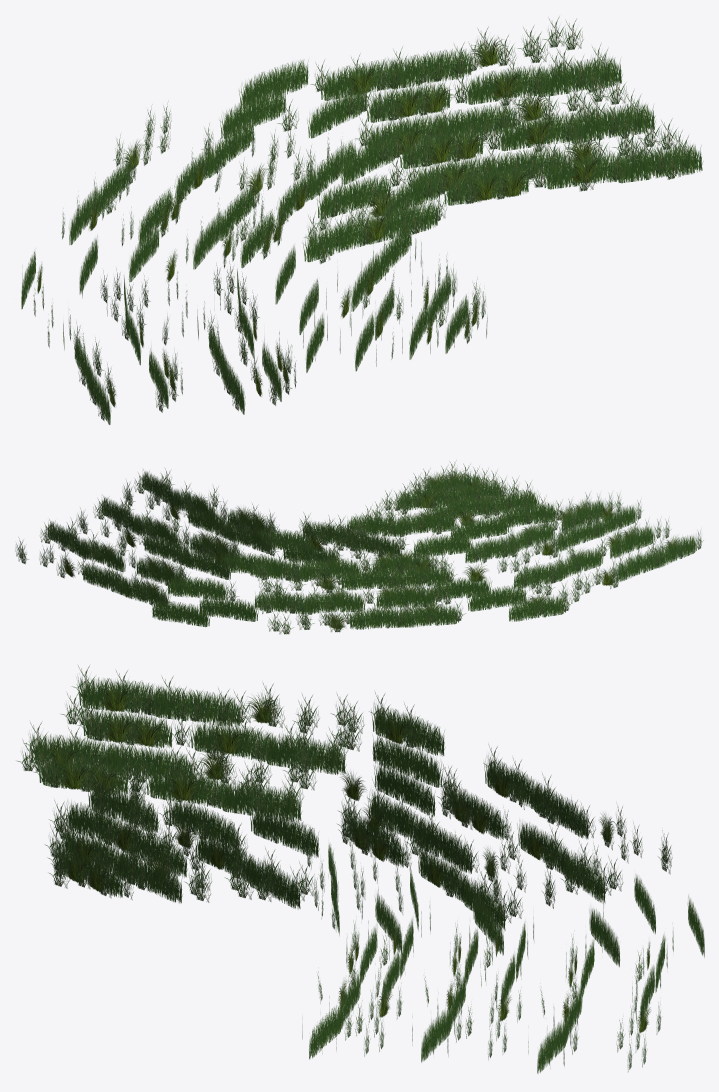
File: Grama.glb
3 renders of one model, top to bottom at view 1: azimuth 30°, elevation 25°; view 2: azimuth 150°, elevation 25°; view 3: azimuth 270°, elevation 25°, orthographic. The views are drawn at different scales.
Parts seen in each view (by area): view 1: GramaC.017, GramaC.024, GramaC.030, GramaC.028, GramaC.022, GramaC.016, GramaC.023, GramaC.029, GramaC.018, GramaC.055, GramaC.054, GramaC.011 (+28 smaller); view 2: GramaC.049, GramaC.031, GramaC.007, GramaC.048, GramaC.054, GramaC.055, GramaC, GramaC.051, GramaC.047, GramaC.052, GramaC.010, GramaC.053 (+44 smaller); view 3: GramaC.039, GramaC.036, GramaC.041, GramaC.034, GramaC.035, GramaC.040, GramaC.047, GramaC.038, GramaC.051, GramaC.037, GramaC.009, GramaC.052 (+29 smaller).
Part boxes in pixels (x1,y1,x2,y2): GramaC.017: (615,144,703,183); GramaC.024: (568,103,655,143); GramaC.030: (536,57,622,97); GramaC.028: (386,49,471,89); GramaC.022: (430,103,515,142); GramaC.016: (542,151,629,189); GramaC.023: (496,111,582,151); GramaC.029: (463,65,549,104); GramaC.018: (316,175,391,218); GramaC.055: (238,60,309,108); GramaC.054: (219,88,286,138); GramaC.011: (442,166,529,205); GramaC.049: (304,591,366,613); GramaC.031: (167,576,228,599); GramaC.007: (396,511,457,534); GramaC.048: (376,586,437,608); GramaC.054: (199,596,258,621); GramaC.055: (152,600,210,627); GramaC: (399,604,458,627); GramaC.051: (467,585,526,611); GramaC.047: (413,533,473,557); GramaC.052: (508,594,566,621); GramaC.010: (450,515,509,541); GramaC.053: (431,576,492,599); GramaC.039: (150,687,240,726); GramaC.036: (218,780,302,821); GramaC.041: (263,733,346,774); GramaC.034: (101,743,192,780); GramaC.035: (145,768,234,808); GramaC.040: (189,721,278,762); GramaC.047: (249,806,319,857); GramaC.038: (76,677,169,715); GramaC.051: (372,735,443,787); GramaC.037: (81,708,173,748); GramaC.009: (87,782,158,832); GramaC.052: (371,706,445,756).
Size of the model in its own units: 26.97 by 1.53 by 20.8.
Materials: 1 (1 with a texture image).
